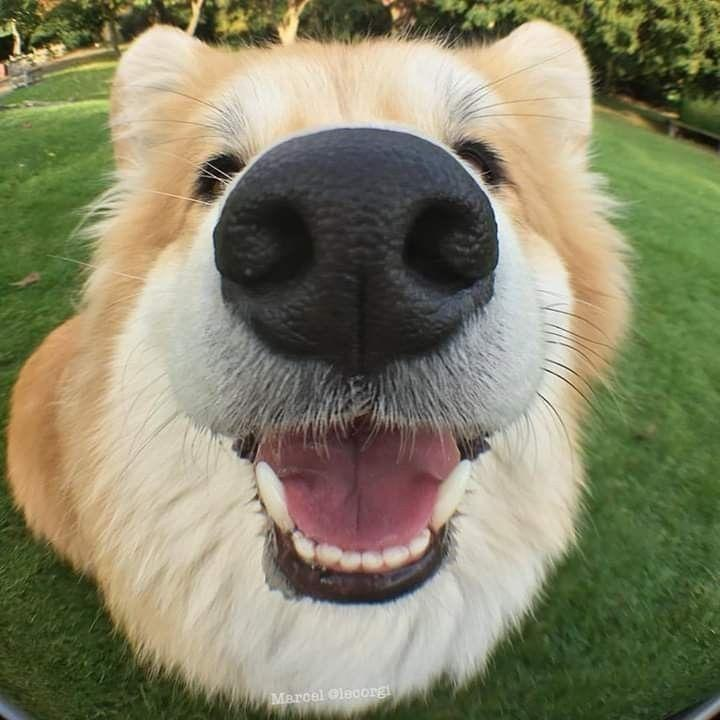adult_dog: (3, 18, 633, 708)
